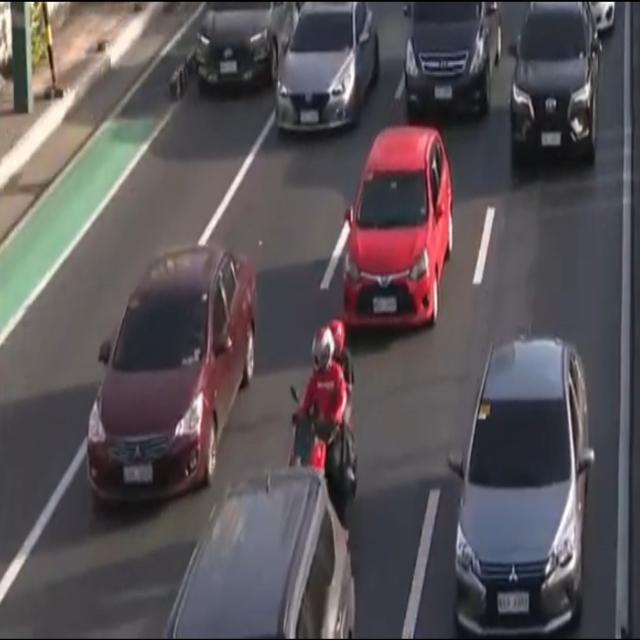Motorcycle: (278, 314, 366, 519)
SUV: (157, 462, 368, 640), (505, 1, 610, 161), (396, 0, 503, 126)
Sedan: (83, 239, 260, 517), (445, 328, 597, 640), (340, 124, 456, 336), (273, 0, 382, 140), (189, 0, 302, 98)
